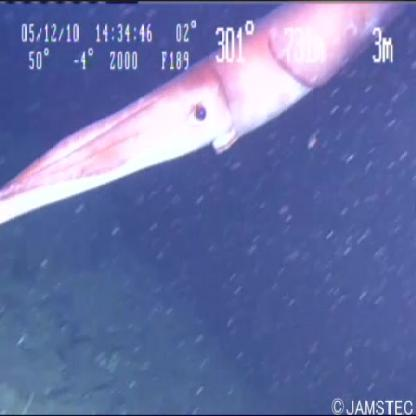Bio: (1, 1, 411, 225)
